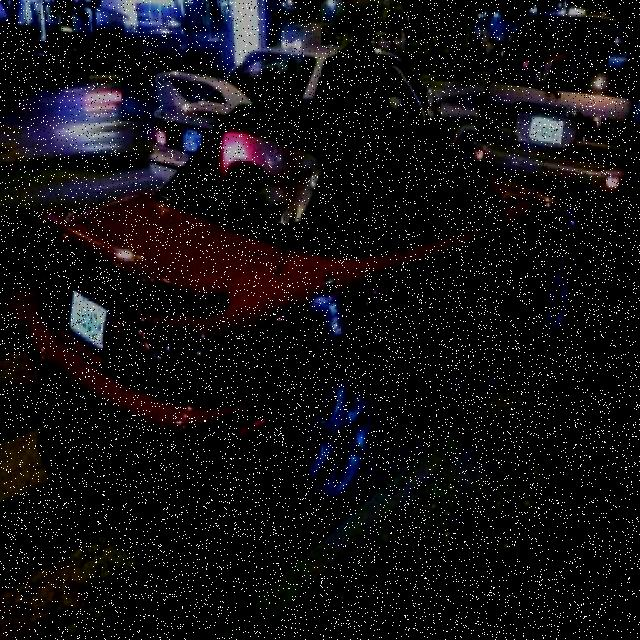license_plate: (63, 288, 111, 348), (527, 117, 564, 146)
